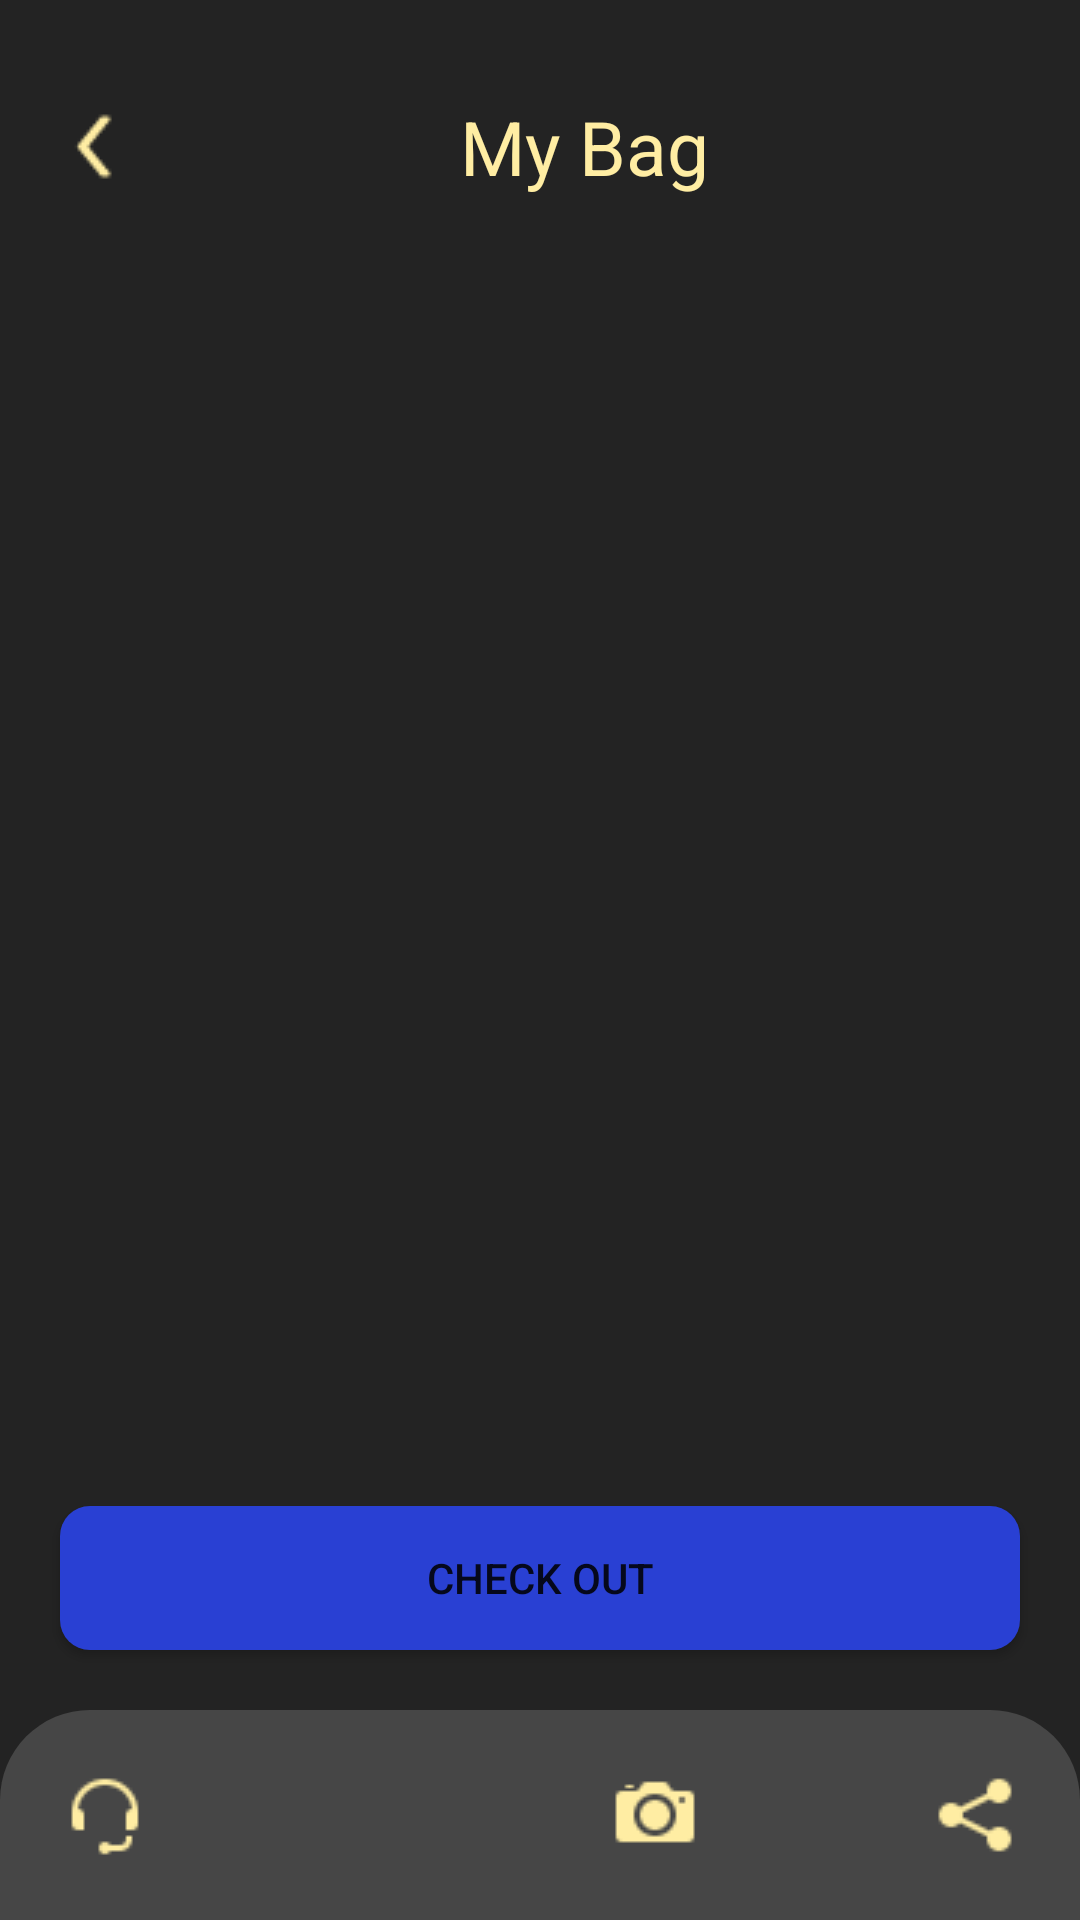

Screen size 1080 x 1920. Icon name, then its box in pixels as (x1, y1, x2, y2):
back: (77, 114, 112, 179)
camera: (615, 1781, 695, 1843)
headset: (71, 1778, 139, 1855)
share: (938, 1778, 1012, 1852)
